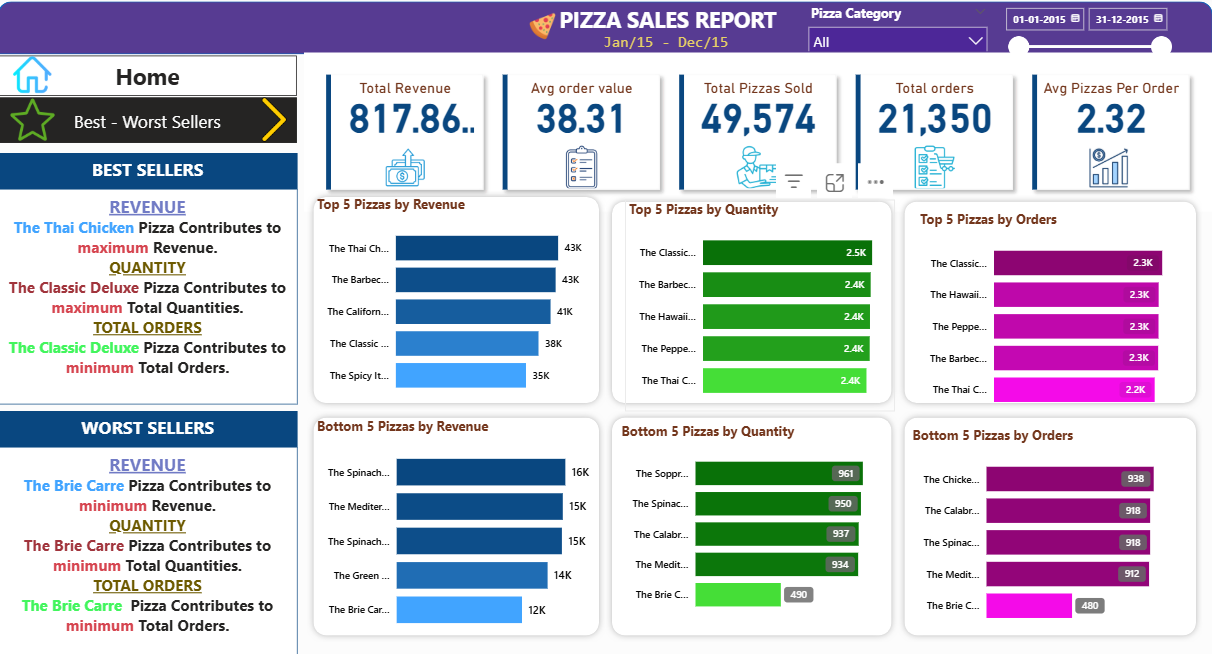

The page's visual inventory and layout, read from the dashboard file:
{"tool":"powerbi","page":{"name":"Best - Worst Sellers","canvas":[1500,820],"ordinal":1},"visuals":[{"type":"shape","box":[0,1.5,1500,65.2],"z":0},{"type":"cardVisual","fields":{"Data":["pizza_sales.Total Revenue","pizza_sales.Average order value","pizza_sales.Total Pizzas Sold","pizza_sales.Total orders","pizza_sales.Average Pizzas Per Order"]},"box":[377.9,64.8,1122.6,196.4],"z":1000},{"type":"textbox","box":[673.3,0,310,51.7],"z":2000},{"type":"textbox","box":[743.3,35,168.3,31.7],"z":3000},{"type":"image","box":[655,13.3,33.3,38.3],"z":4000},{"type":"textbox","box":[0,188.7,369.8,45.3],"z":5000},{"type":"textbox","box":[0,234,369.8,266],"z":6000},{"type":"textbox","box":[0,507.5,369.8,45.3],"z":7000},{"type":"textbox","box":[0,552.8,369.8,267.9],"z":8000},{"type":"slicer","fields":{"Values":["pizza_sales.pizza_category"]},"box":[990.9,0,240.9,63.6],"z":9000},{"type":"slicer","fields":{"Values":["pizza_sales.order_date"]},"box":[1231.8,0,225.8,80.3],"z":10000},{"type":"shape","box":[750.2,240.8,361.2,264.9],"z":11000},{"type":"shape","box":[1111.5,240.8,376,264.9],"z":12000},{"type":"shape","box":[381.6,235.3,368.6,270.5],"z":13000},{"type":"shape","box":[1111.5,507.6,376,285.3],"z":14000},{"type":"shape","box":[750.2,507.6,361.2,285.3],"z":15000},{"type":"shape","box":[381.6,507.6,368.6,285.3],"z":16000},{"type":"barChart","title":"Top 5 Pizzas by Revenue","fields":{"Category":["pizza_sales.pizza_name"],"Y":["pizza_sales.Total Revenue"]},"box":[389,240.8,357.5,259.3],"z":17000},{"type":"barChart","title":"Bottom 5 Pizzas by Revenue","fields":{"Category":["pizza_sales.pizza_name"],"Y":["pizza_sales.Total Revenue"]},"box":[388.7,515.1,358.5,277.4],"z":18000},{"type":"barChart","title":"Top 5 Pizzas by Quantity","fields":{"Category":["pizza_sales.pizza_name"],"Y":["pizza_sales.Total Pizzas Sold"]},"box":[773.6,247.2,334,260.4],"z":19000},{"type":"barChart","title":"Bottom 5 Pizzas by Quantity","fields":{"Category":["pizza_sales.pizza_name"],"Y":["pizza_sales.Total Pizzas Sold"]},"box":[764.2,520.8,332.1,249.1],"z":20000},{"type":"barChart","title":"Bottom 5 Pizzas by Orders","fields":{"Category":["pizza_sales.pizza_name"],"Y":["pizza_sales.Total orders"]},"box":[1124.5,526.4,334,258.5],"z":21000},{"type":"barChart","title":"Top 5 Pizzas by Orders","fields":{"Category":["pizza_sales.pizza_name"],"Y":["pizza_sales.Total orders"]},"box":[1134.5,259.1,334,258.5],"z":22000},{"type":"pageNavigator","box":[0,120.8,369.8,56.6],"z":23000},{"type":"pageNavigator","box":[0,67.9,369.8,50.9],"z":24000},{"type":"image","box":[313.2,120.8,56.6,54.7],"z":25000},{"type":"image","box":[0,67.9,84.9,47.2],"z":26000},{"type":"image","box":[0,120.8,84.9,54.7],"z":27000}]}

Visuals, with their boxes in screenshot pixels (x1, y1, x2, y2), scaled from the page's 1500x820 canvas onto the 1212x654 screenshot:
shape: [0,1,1211,53]
cardVisual - pizza_sales.Total Revenue x pizza_sales.Average order value: [305,52,1211,208]
textbox: [544,0,795,41]
textbox: [601,28,737,53]
image: [529,11,556,41]
textbox: [0,150,299,187]
textbox: [0,187,299,399]
textbox: [0,405,299,441]
textbox: [0,441,299,653]
slicer - pizza_sales.pizza_category: [801,0,995,51]
slicer - pizza_sales.order_date: [995,0,1178,64]
shape: [606,192,898,403]
shape: [898,192,1202,403]
shape: [308,188,606,403]
shape: [898,405,1202,632]
shape: [606,405,898,632]
shape: [308,405,606,632]
"Top 5 Pizzas by Revenue" barChart: [314,192,603,399]
"Bottom 5 Pizzas by Revenue" barChart: [314,411,604,632]
"Top 5 Pizzas by Quantity" barChart: [625,197,895,405]
"Bottom 5 Pizzas by Quantity" barChart: [617,415,886,614]
"Bottom 5 Pizzas by Orders" barChart: [909,420,1178,626]
"Top 5 Pizzas by Orders" barChart: [917,207,1187,413]
pageNavigator: [0,96,299,141]
pageNavigator: [0,54,299,95]
image: [253,96,299,140]
image: [0,54,69,92]
image: [0,96,69,140]
